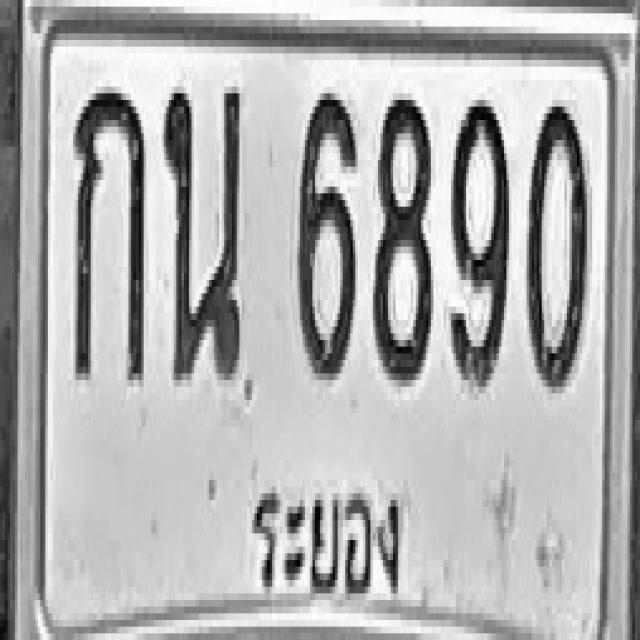0: (526, 100, 588, 387)
10GorGai: (72, 80, 145, 380)
34NorNu: (162, 84, 240, 384)
6: (296, 87, 357, 380)
8: (373, 90, 431, 383)
9: (450, 93, 508, 387)
Rayong: (244, 464, 405, 616)
